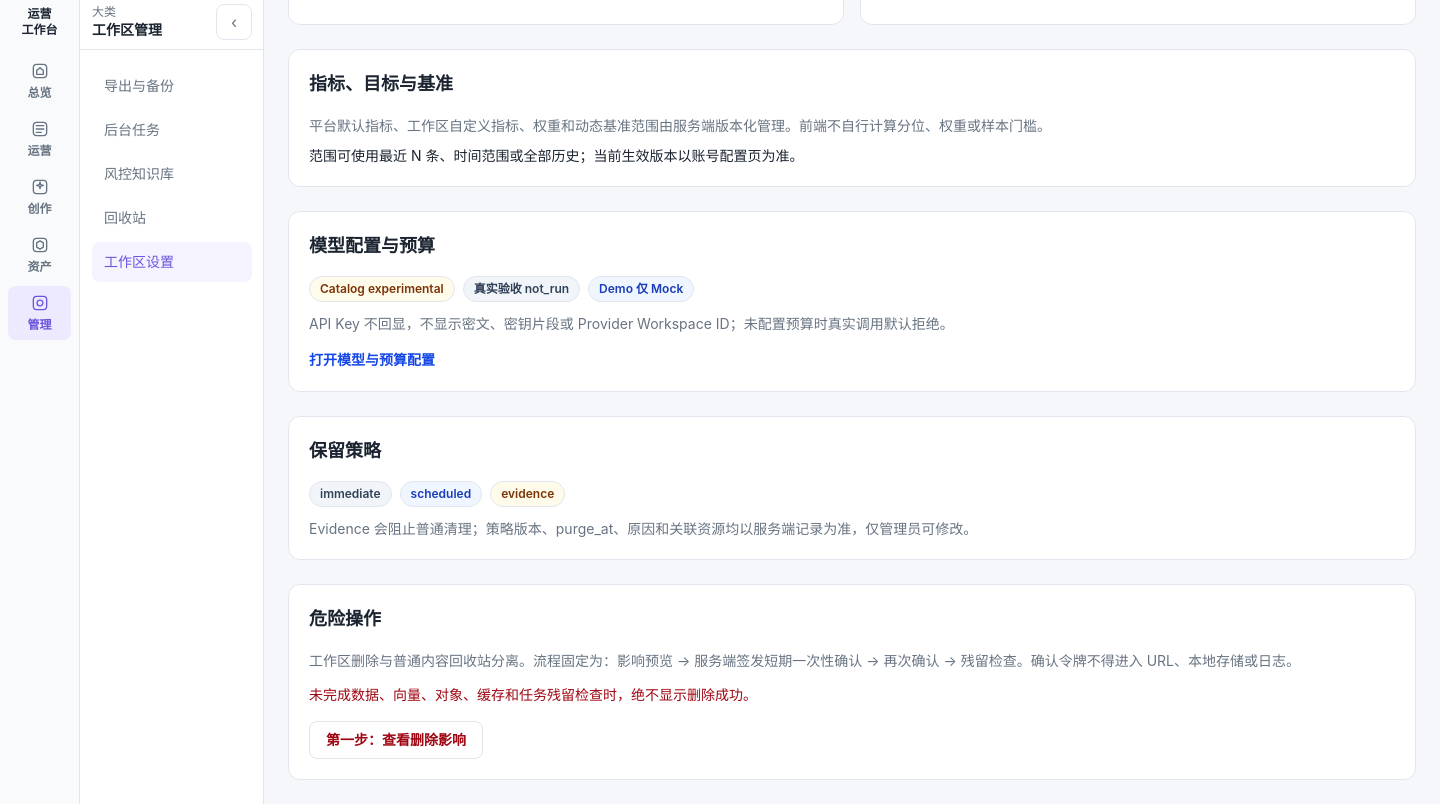
professional mode preserves experimental, Provider, and impact preview terms
(page scrolled)
Expected: the text "Catalog experimental" is shown, [309,276,455,302]
Expected: the text "真实验收 not_run" is shown, [463,276,580,302]
Click the button "第一步：查看删除影响".
click(396, 740)  # box [309,721,483,759]
(page scrolled)
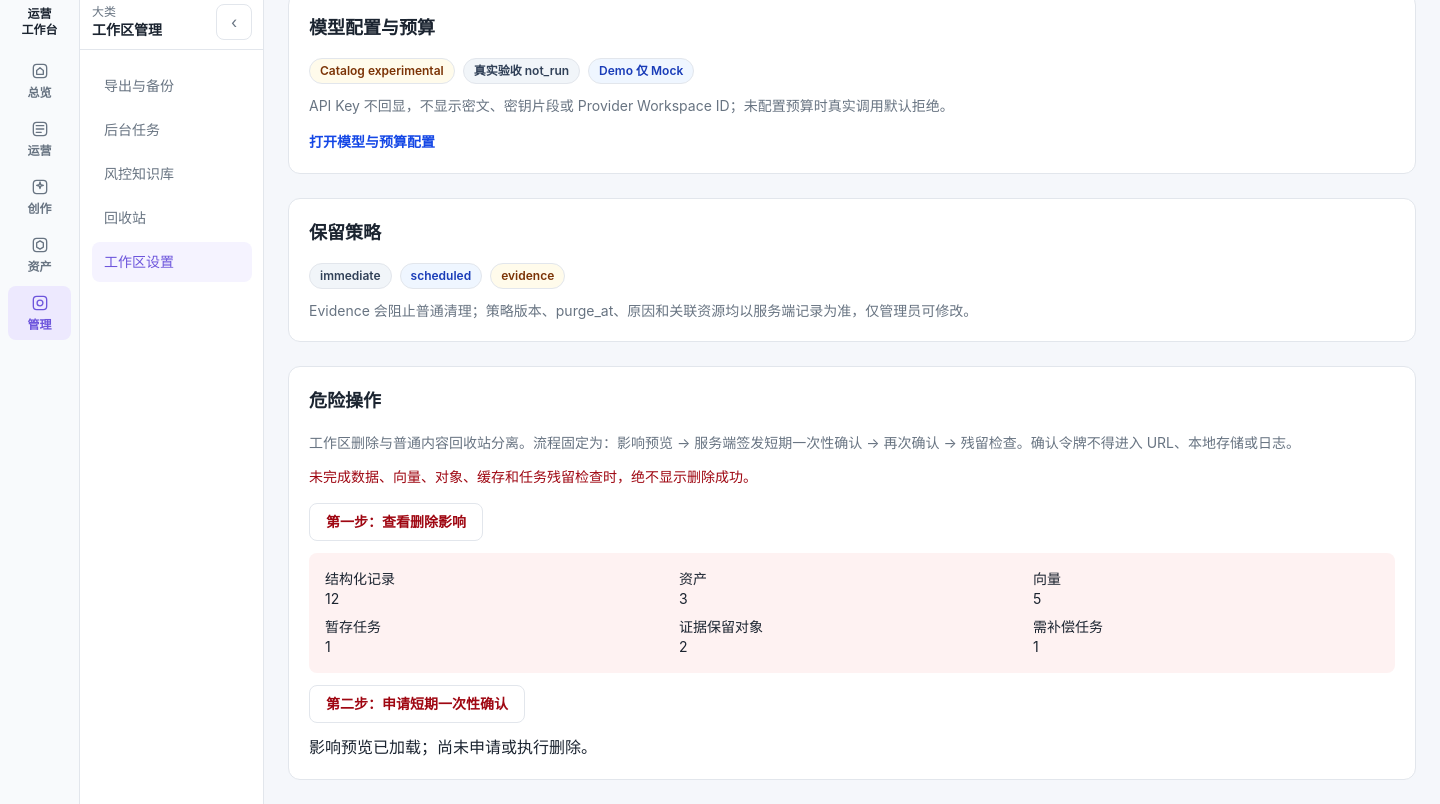
Result: the text "影响预览已加载；尚未申请或执行删除。" is shown at [309,737,597,757]
Result: the text "向量" is shown at [1033,570,1061,587]
Result: the text "需补偿任务" is shown at [1033,618,1103,635]
